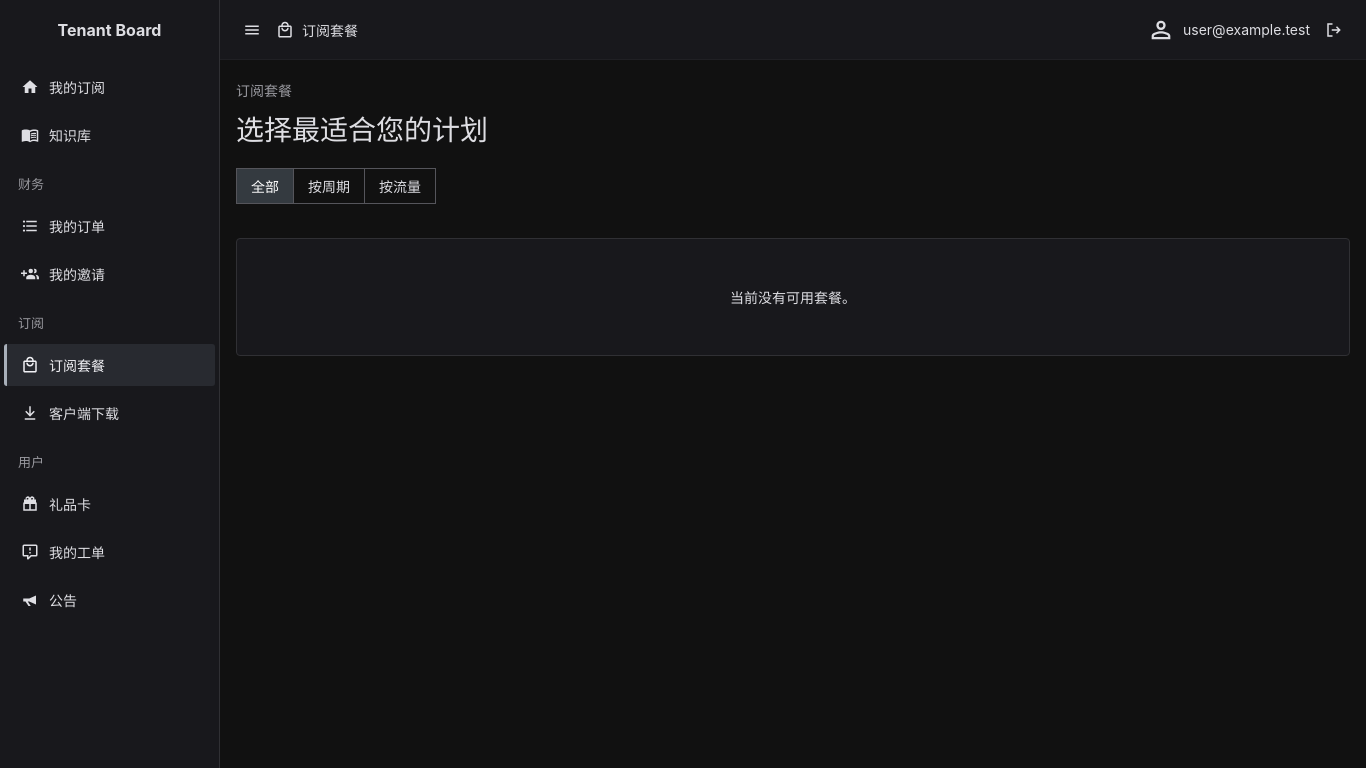
UserPortal › keeps the session visible when logout fails
Click the button named "退出": (1334, 30) [1318, 12, 1350, 46]
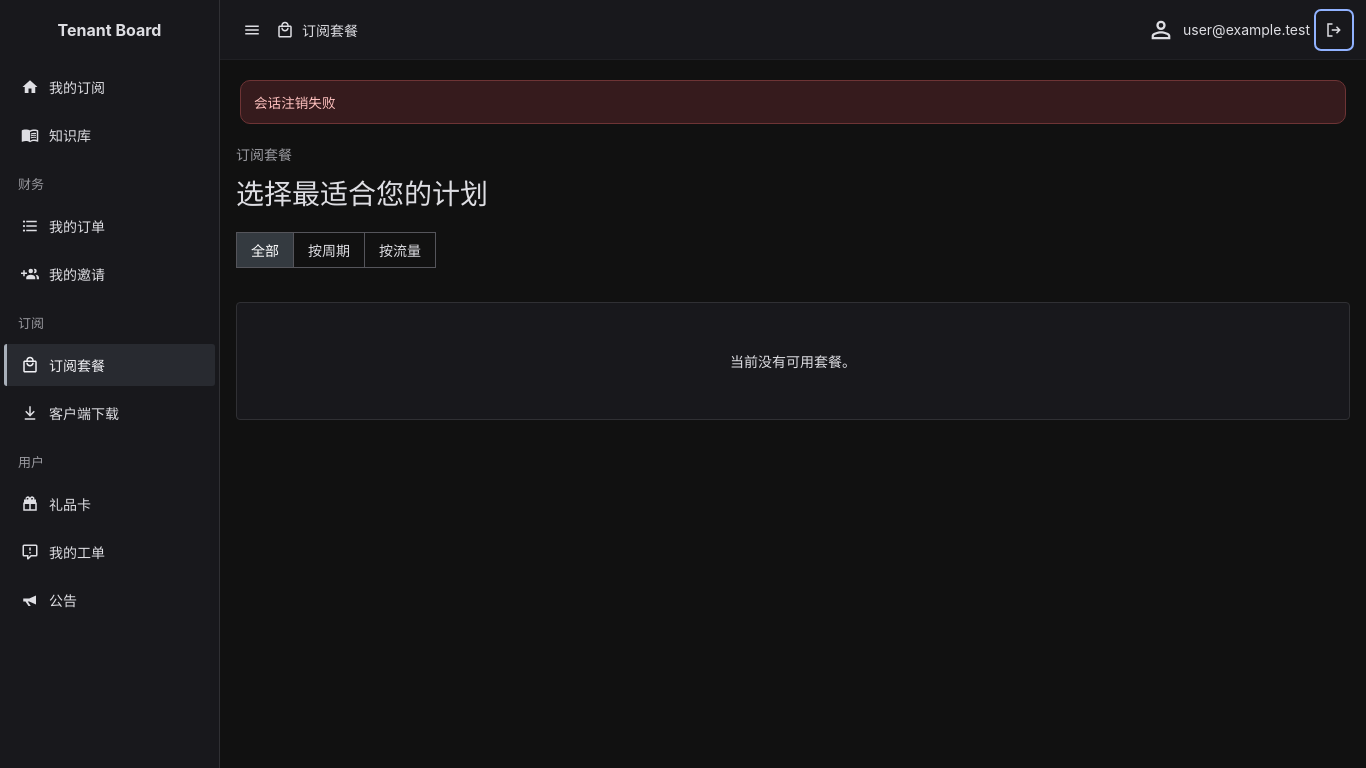
Expected: the message reads "会话注销失败", [254, 95, 336, 111]
